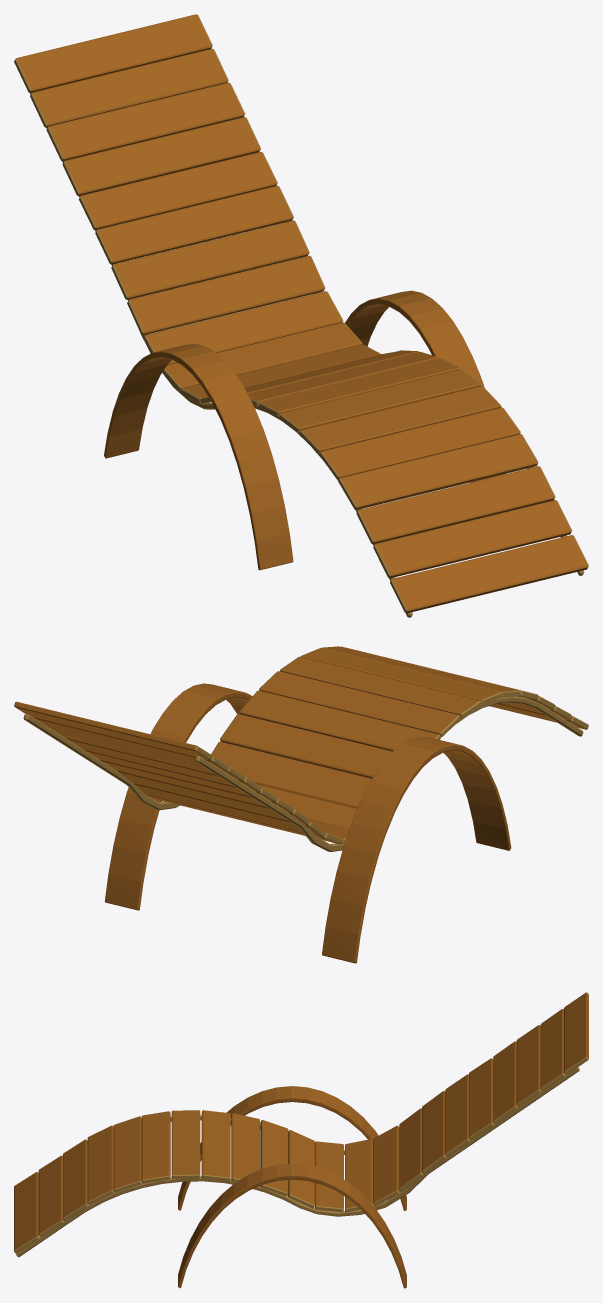
Rendered from SunChair.fbx.
3 views of the same model, one above another, from view 1: azimuth 30°, elevation 25°; view 2: azimuth 150°, elevation 25°; view 3: azimuth 270°, elevation 25° (orthographic). The views are drawn at different scales.
Parts seen in each view (by area): view 1: SunChair; view 2: SunChair; view 3: SunChair.
Part boxes in pixels (x1,y1,x2,y2): SunChair: (14, 14, 588, 617); SunChair: (14, 646, 588, 963); SunChair: (14, 992, 588, 1288).
Bounding box in the file's own units: 2.02 × 2.31 × 5.48.
